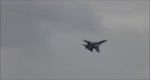maybay_muctieu: (83, 36, 108, 53)
